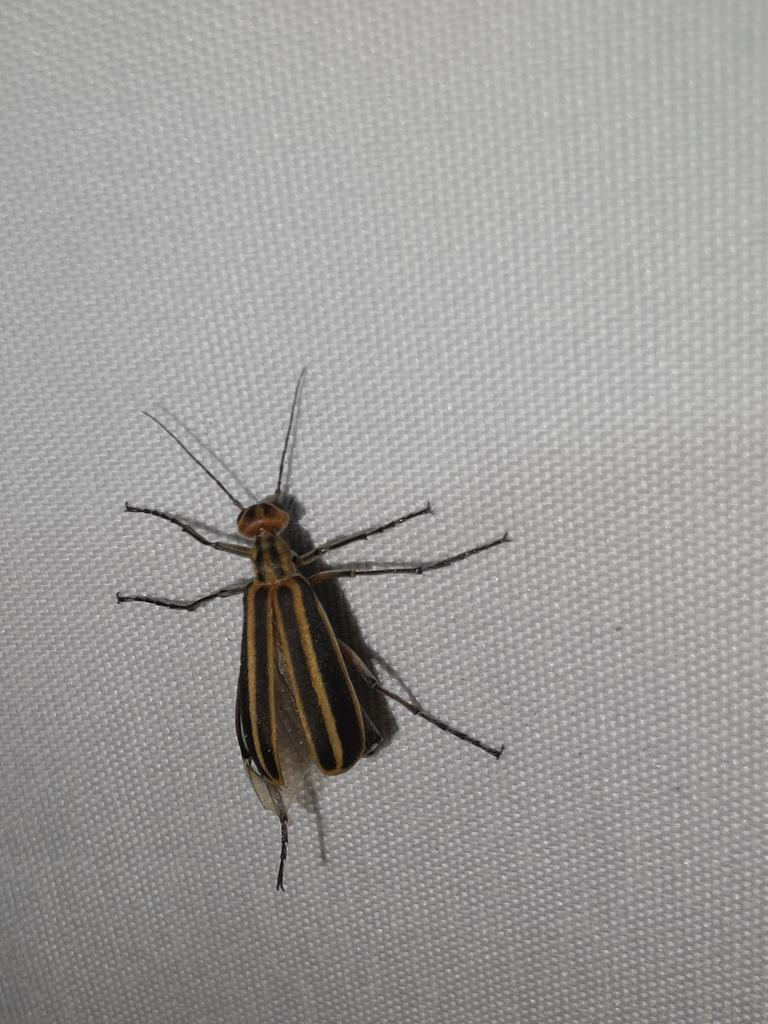blister_beetle: (77, 337, 545, 953)
